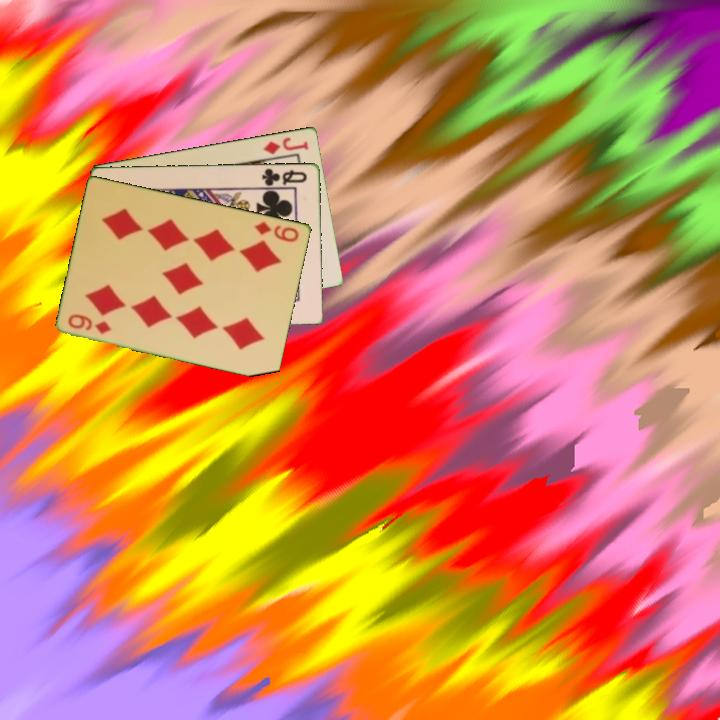9d: (251, 217, 302, 245), (65, 310, 115, 337)
Jd: (260, 133, 311, 157)
Qc: (259, 164, 310, 189)
